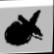not correct: (3, 8, 45, 47)
